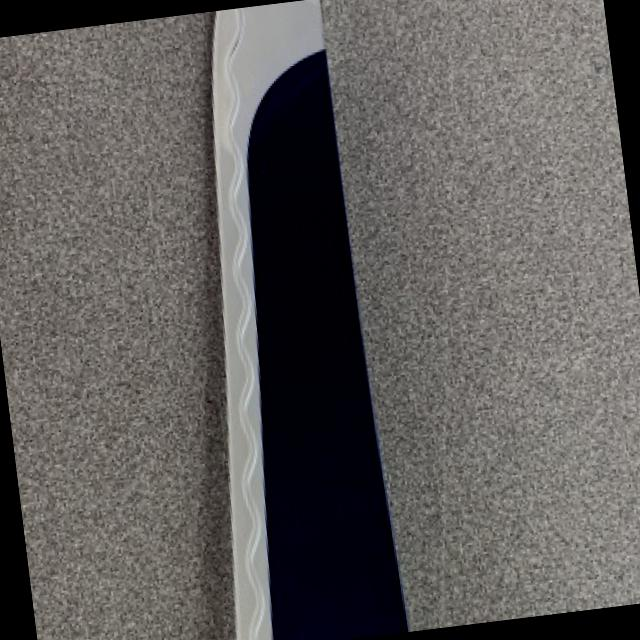healthy: (214, 0, 410, 640)
